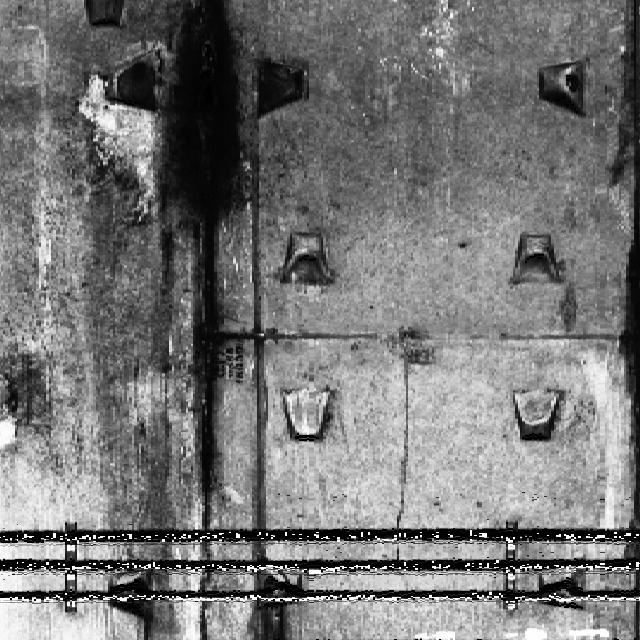leakage: (148, 0, 265, 493)
